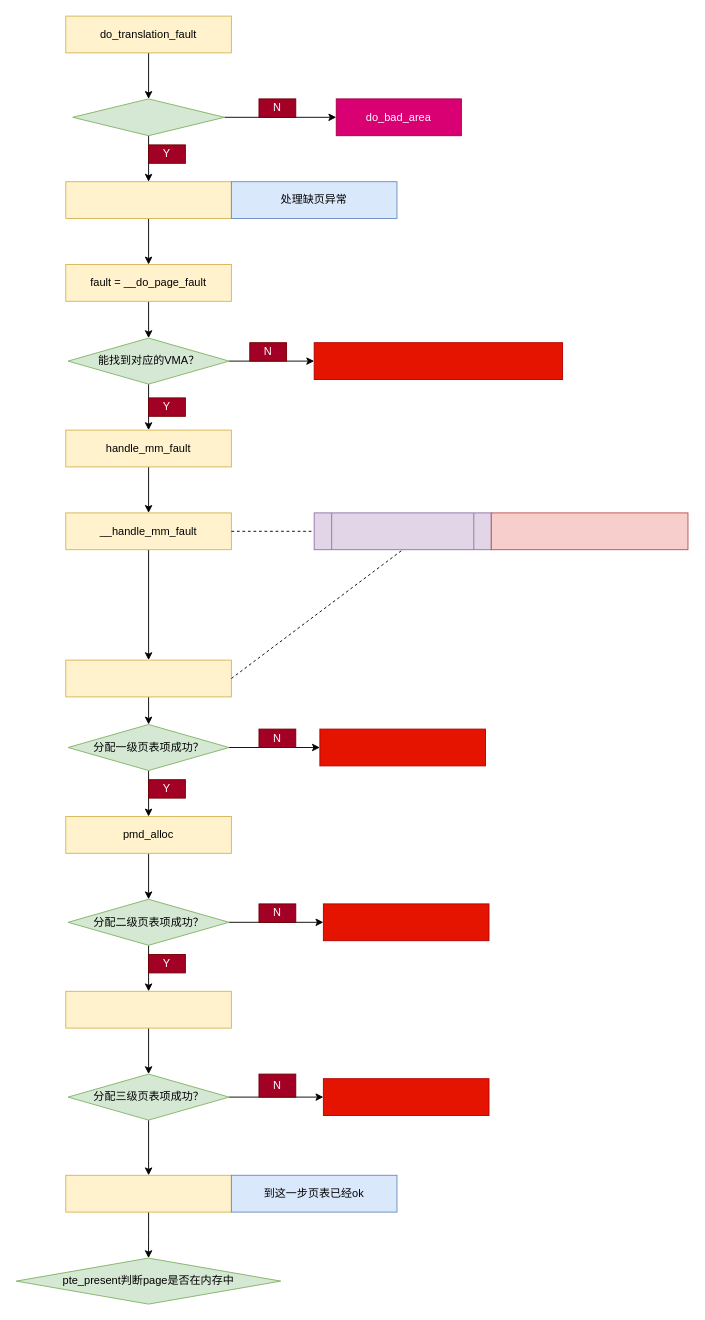
Some shapes in this 705 by 1320 pixel diagram are drawn without their labels. The shapes that lost their labels are listed below. From the top down, each one's centre as x and y in pixels, then its label:
At point (148, 117): "用户地址？".
At point (148, 199): "do_page_fault".
At point (438, 361): "段错误：VM_FAULT_BADACCESS".
At point (402, 531): "跳过大页异常hugetlb_fault".
At point (589, 531): "这里失败也会返回VM_FAULT_OOM".
At point (148, 678): "pud_alloc".
At point (402, 747): "1、失败返回VM_FAULT_OOM".
At point (405, 922): "2、失败返回VM_FAULT_OOM".
At point (148, 1009): "__pte_alloc".
At point (405, 1097): "3、失败返回VM_FAULT_OOM".
At point (148, 1193): "handle_pte_fault".
